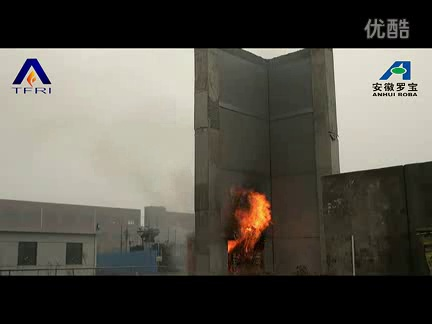fire: (221, 181, 274, 265)
